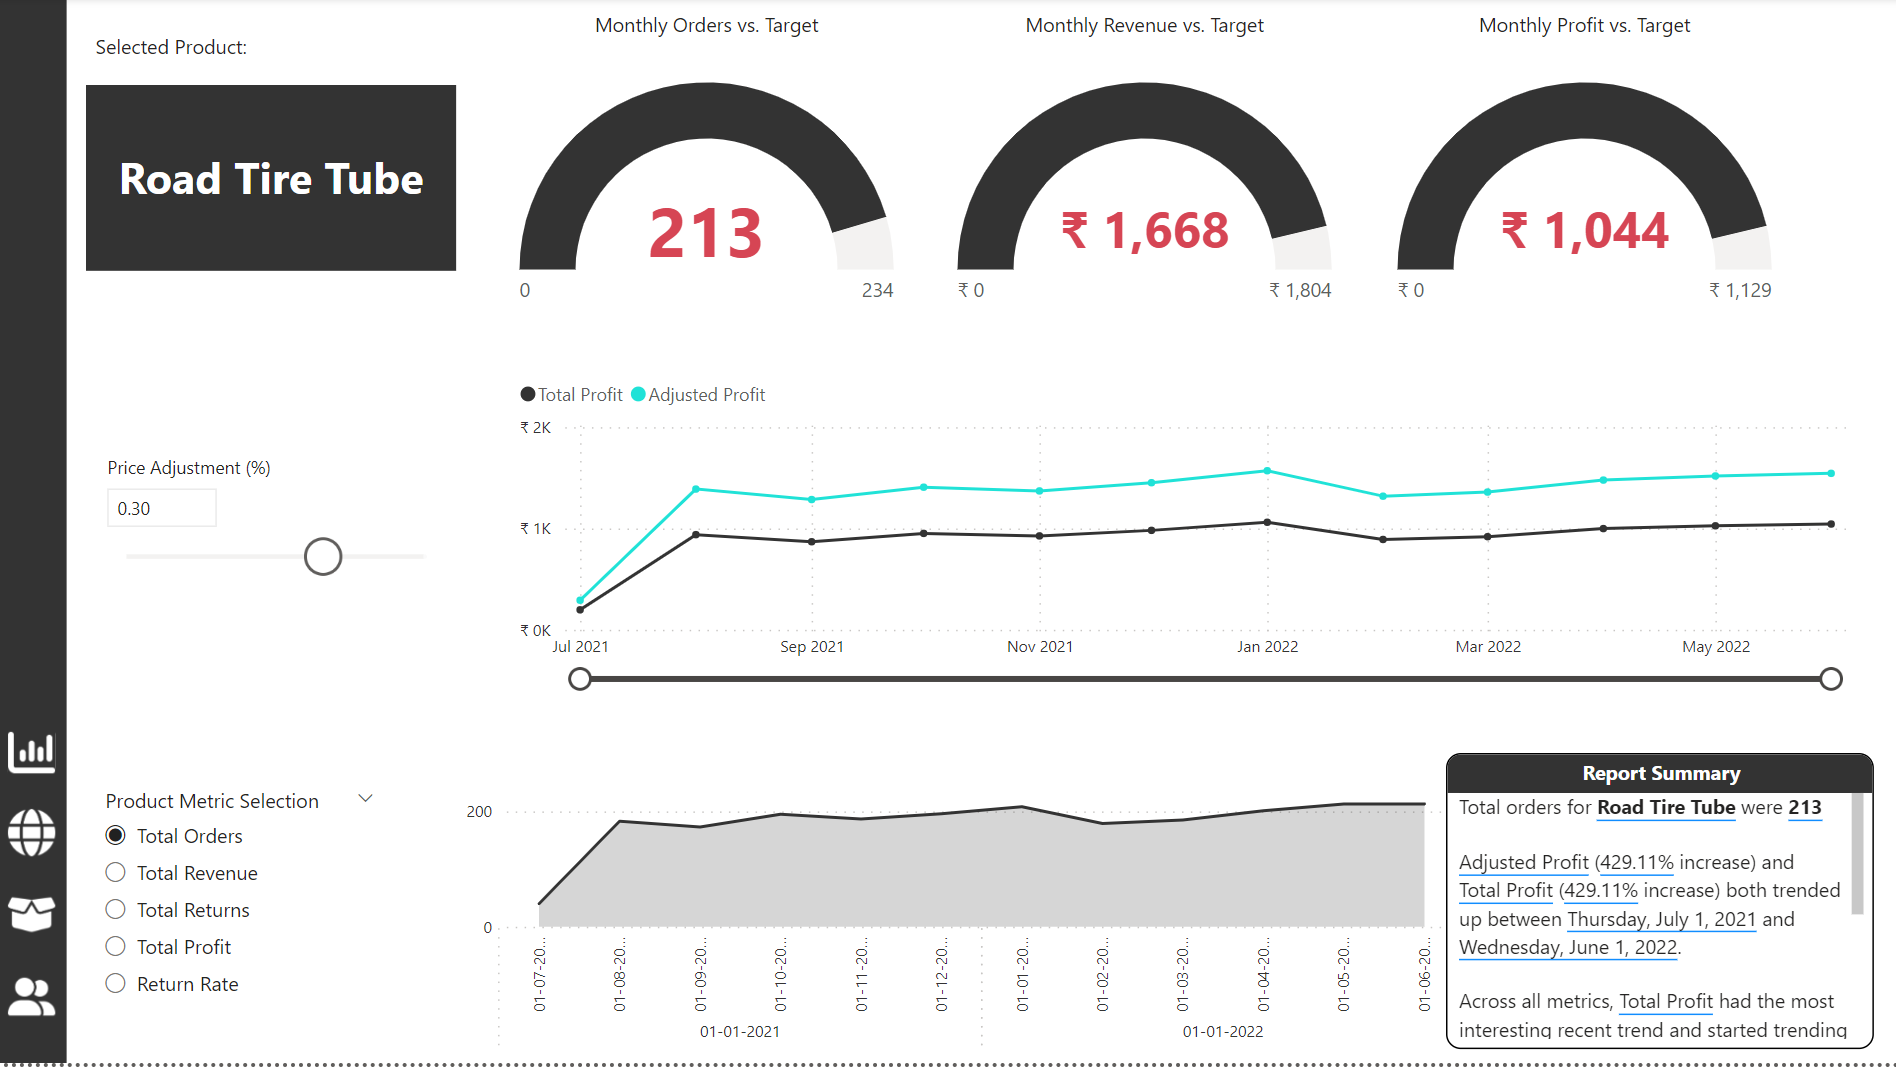

The dashboard page shown, as its layout file describes it:
{"tool":"powerbi","page":{"name":"Product Deatils","canvas":[1280,720],"ordinal":2},"visuals":[{"type":"shape","box":[0,0,45,720.3],"z":0},{"type":"actionButton","box":[1.4,600,45.7,40],"z":0,"group":"g1"},{"type":"gauge","title":"Monthly Orders vs. Target","fields":{"Y":["Measure Table.Total Orders"],"MaxValue":["Measure Table.Order Target"]},"box":[345.7,9,262.9,232.9],"z":1000},{"type":"actionButton","box":[1.4,654.3,45.7,40],"z":1000,"group":"g1"},{"type":"gauge","title":"Monthly Revenue vs. Target","fields":{"Y":["Measure Table.Total Revenue"],"MaxValue":["Measure Table.Revenue Target"]},"box":[642.1,9,262.9,232.9],"z":2000},{"type":"actionButton","box":[1.4,544.3,45.7,40],"z":2000,"group":"g1"},{"type":"gauge","title":"Monthly Profit vs. Target","fields":{"Y":["Measure Table.Total Profit"],"MaxValue":["Measure Table.Profit Target"]},"box":[938.6,9,262.9,232.9],"z":3000},{"type":"actionButton","box":[1.4,490,45.7,40],"z":3000,"group":"g1"},{"type":"lineChart","title":"Profit Trending","fields":{"Category":["Calendar Lookup.Date Hierarchy.Start of Year","Calendar Lookup.Date Hierarchy.Start of Month","Calendar Lookup.Date Hierarchy.Date"],"Y":["Measure Table.Total Profit","Measure Table.Adjusted Profit"]},"box":[345.7,248.6,920,222.9],"z":4000},{"type":"areaChart","title":"Return Trending","fields":{"Y":["Measure Table.Total Orders"],"Category":["Calendar Lookup.Date Hierarchy.Start of Year","Calendar Lookup.Date Hierarchy.Start of Month","Calendar Lookup.Date Hierarchy.Date"]},"box":[309.3,497.1,679.5,222.9],"z":5000},{"type":"card","fields":{"Values":["Min(Product Lookup.ProductName)"]},"box":[58.6,60,250,125.7],"z":6000},{"type":"textbox","box":[60,18.6,124.3,31.4],"z":7000},{"type":"group","id":"g1","title":"Navigation buttons","box":[1.4,490,45.7,204.3],"z":8000},{"type":"slicer","fields":{"Values":["Price Adjustment (%).Price Adjustment (%)"]},"box":[60,304.3,250,111.4],"z":9000},{"type":"slicer","fields":{"Values":["Product Metric Selection.Product Metric Selection"]},"box":[58.1,528.2,206.7,162.1],"z":10000},{"type":"textbox","title":"Report Summary","box":[976.7,510.6,289.1,199.9],"z":11000}]}

Visuals, with their boxes on the page's 1280x720 design canvas (x1, y1, x2, y2). These are canvas units, not pixel positions in the 1896x1068 screenshot, which may show the page scaled, cropped or inside an application window:
shape: <region>0, 0, 45, 720</region>
actionButton: <region>1, 600, 47, 640</region>
"Monthly Orders vs. Target" gauge: <region>346, 9, 609, 242</region>
actionButton: <region>1, 654, 47, 694</region>
"Monthly Revenue vs. Target" gauge: <region>642, 9, 905, 242</region>
actionButton: <region>1, 544, 47, 584</region>
"Monthly Profit vs. Target" gauge: <region>939, 9, 1202, 242</region>
actionButton: <region>1, 490, 47, 530</region>
"Profit Trending" lineChart: <region>346, 249, 1266, 472</region>
"Return Trending" areaChart: <region>309, 497, 989, 720</region>
card - Min(Product Lookup.ProductName): <region>59, 60, 309, 186</region>
textbox: <region>60, 19, 184, 50</region>
"Navigation buttons" group: <region>1, 490, 47, 694</region>
slicer - Price Adjustment (%).Price Adjustment (%): <region>60, 304, 310, 416</region>
slicer - Product Metric Selection.Product Metric Selection: <region>58, 528, 265, 690</region>
"Report Summary" textbox: <region>977, 511, 1266, 710</region>
